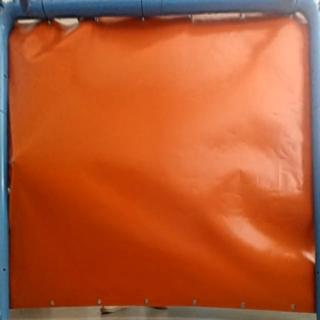Hit-hRxx: (7, 153, 19, 171)
